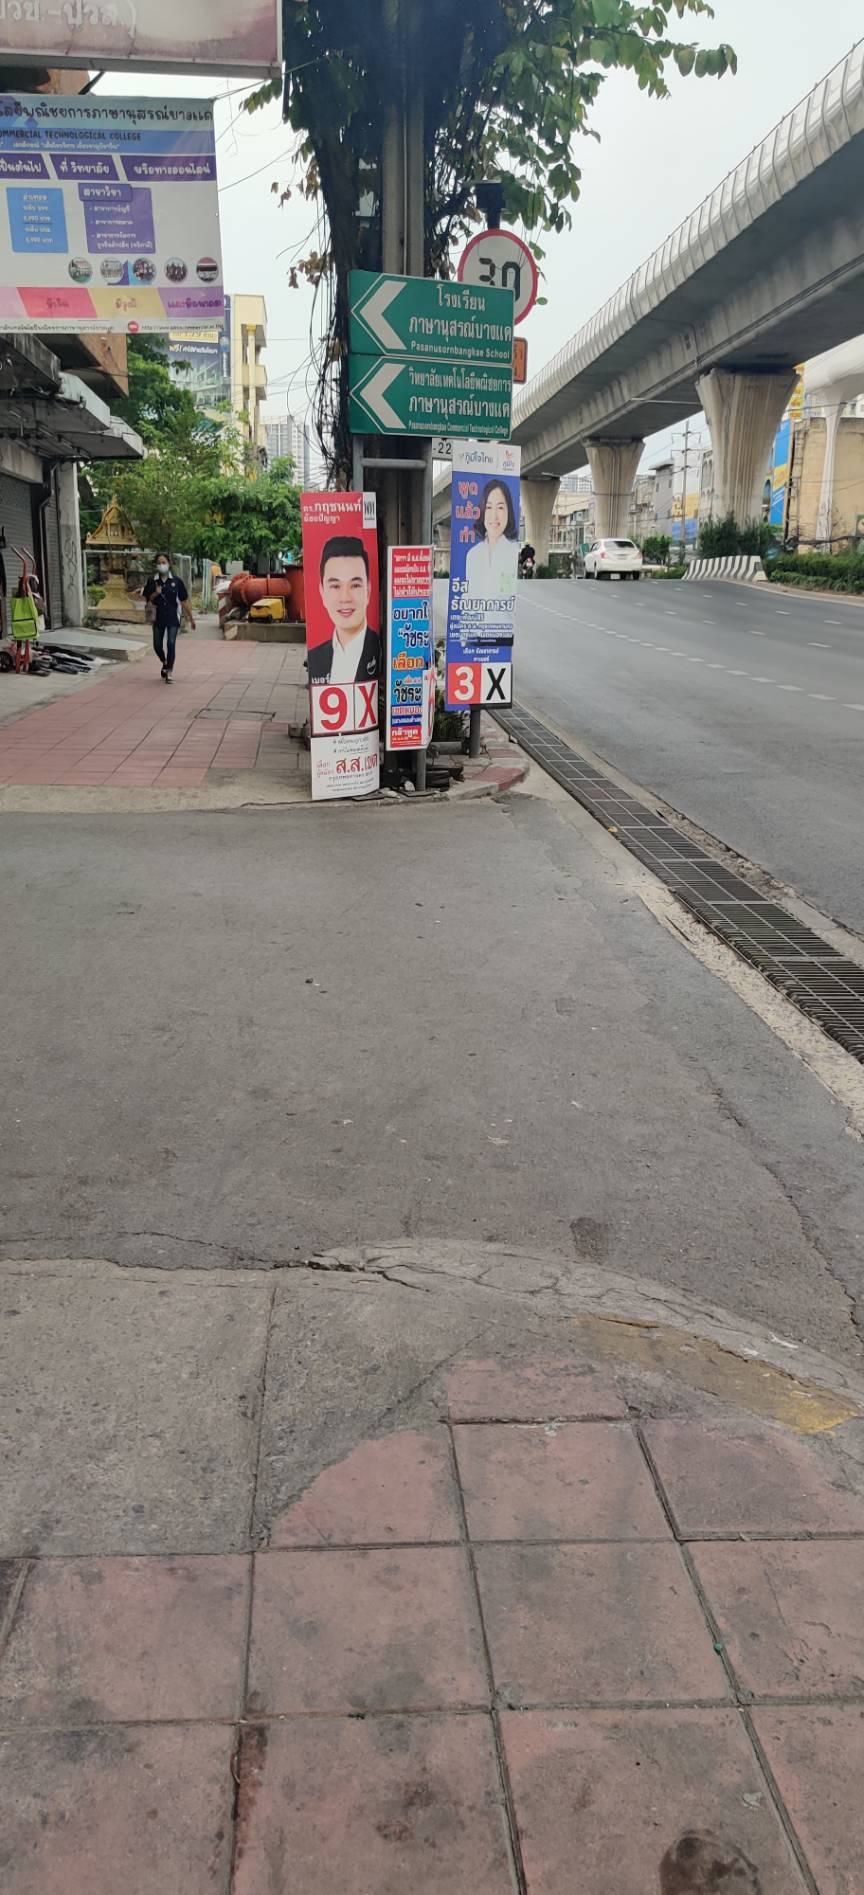Banner: (297, 499, 388, 798), (447, 437, 523, 717)
